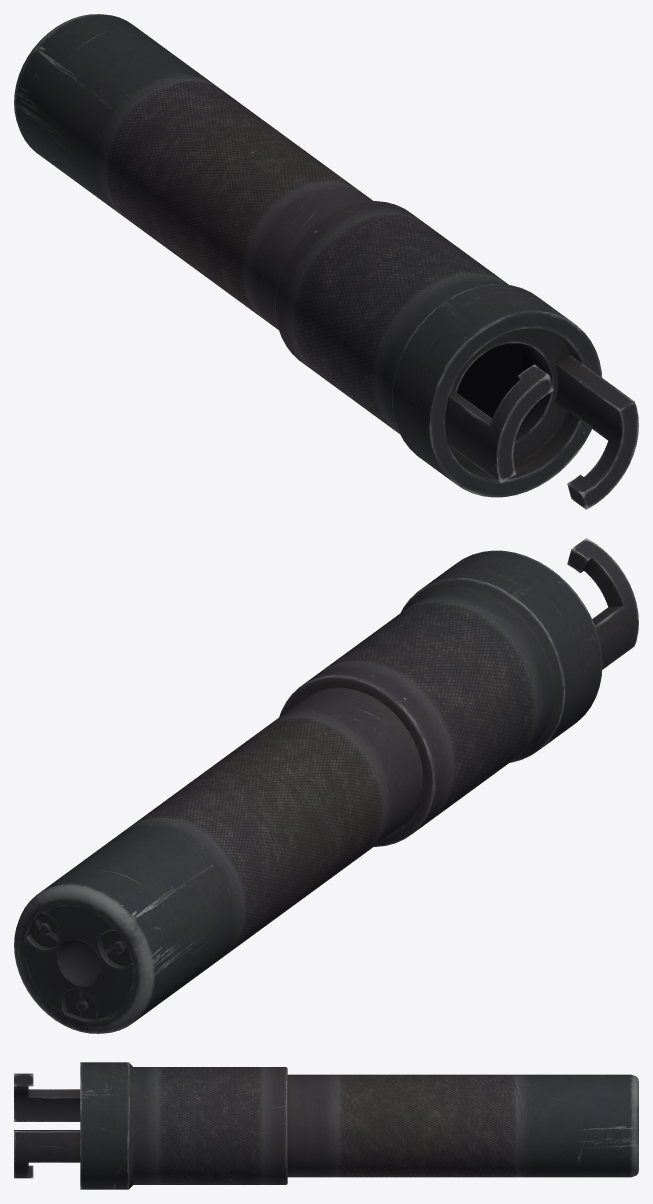
The model's file is tgp-v_2_shelest_suppressorsilencer_lowpoly.glb.
3 views of the same model, one above another, from view 1: azimuth 30°, elevation 25°; view 2: azimuth 150°, elevation 25°; view 3: azimuth 270°, elevation 25° (orthographic). The views are drawn at different scales.
Parts seen in each view (by area): view 1: wRing.002, wRing.001, wRing.003; view 2: wRing.002, wRing.001, wRing.012, wRing.003; view 3: wRing.002, wRing.001, wRing.003.
Part boxes in pixels (box(x1,y1,x2,y2)): wRing.002: box(14, 14, 372, 329); wRing.001: box(275, 201, 601, 497); wRing.003: box(445, 328, 638, 509); wRing.002: box(14, 687, 423, 1033); wRing.001: box(279, 550, 602, 846); wRing.012: box(25, 904, 133, 1021); wRing.003: box(567, 538, 638, 669); wRing.002: box(287, 1074, 638, 1177); wRing.001: box(80, 1062, 287, 1189); wRing.003: box(14, 1073, 80, 1178).
Bounding box in the file's own units: 2.23 × 2.23 × 10.93.
Materials: 1 (1 with a texture image).
